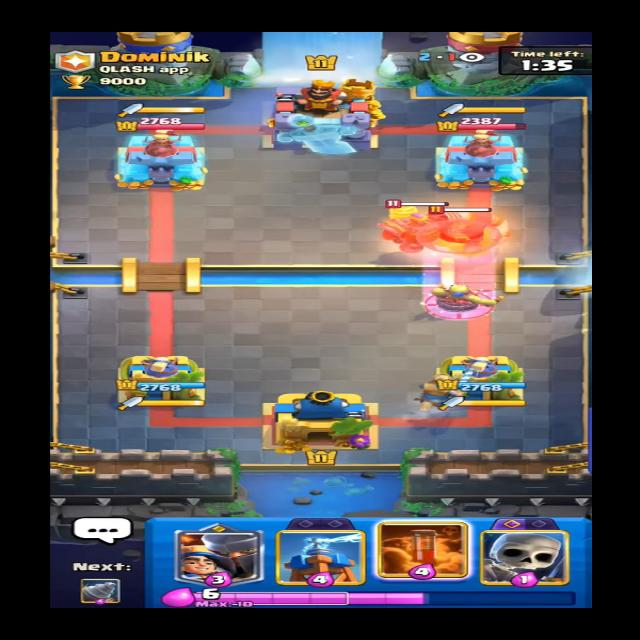giant: (408, 194, 512, 255)
goblin-machine: (350, 194, 461, 250)
